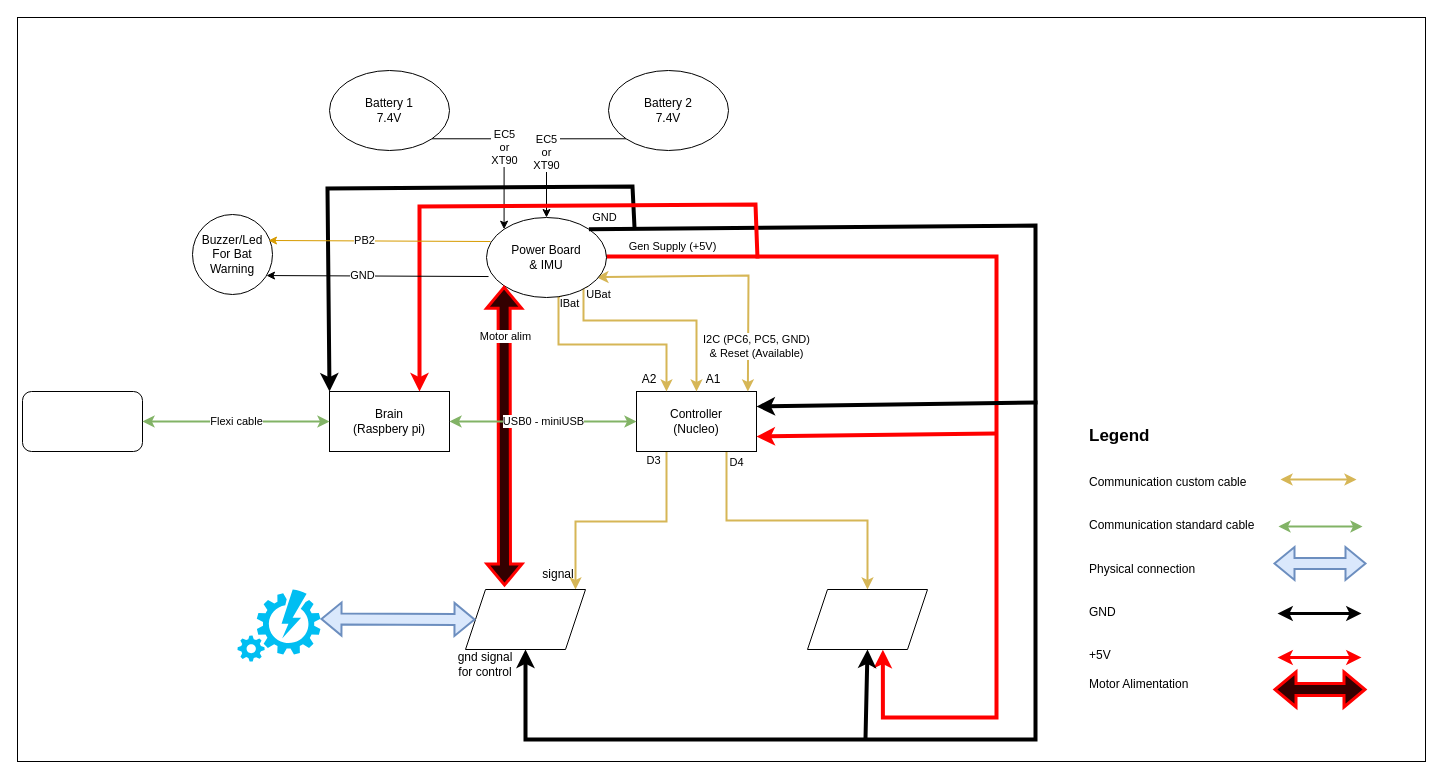
This 1443x779 diagram has some shape labels left out. The centre of each missing label's shape, as x and y in pixels:
"Camera" belongs at [82,421].
"Motor" belongs at [525,619].
"Servo" belongs at [867,619].
